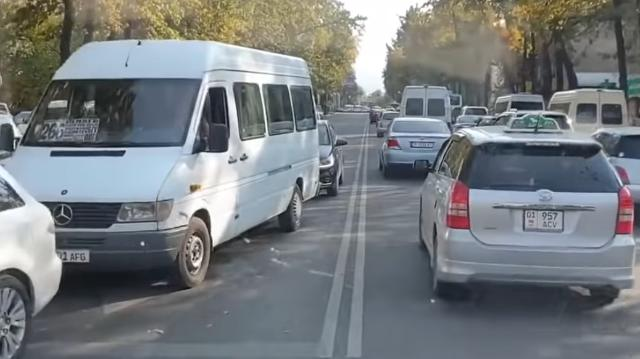non emergency car: (12, 39, 320, 291), (420, 125, 637, 305), (379, 119, 453, 180), (546, 92, 632, 138), (402, 84, 455, 132), (317, 122, 346, 197), (493, 96, 547, 121)
